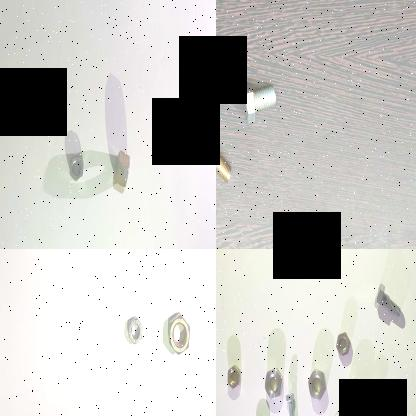Bolts: (239, 70, 280, 129), (370, 282, 404, 324), (216, 124, 237, 186), (282, 390, 303, 416)
NUTS: (162, 302, 198, 362), (106, 146, 134, 204), (121, 303, 147, 361), (65, 132, 86, 188), (260, 361, 284, 399), (304, 366, 326, 400), (340, 376, 362, 410), (223, 359, 242, 391), (331, 329, 351, 357), (360, 378, 376, 410)
